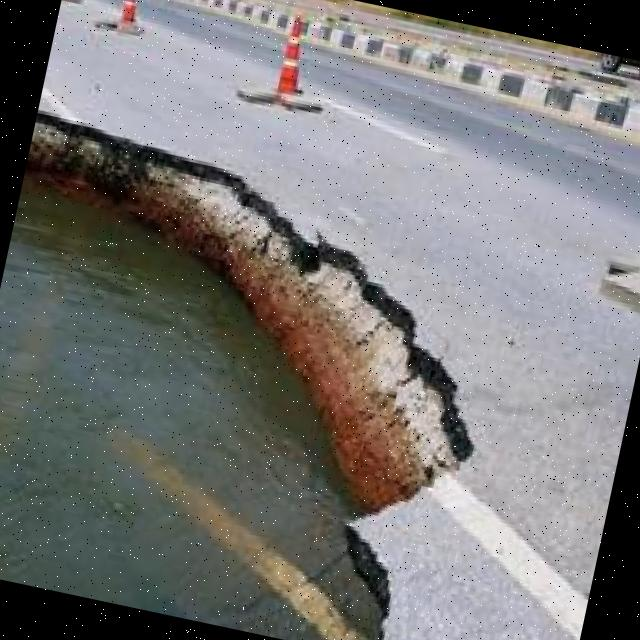road collapse: (0, 80, 591, 640)
